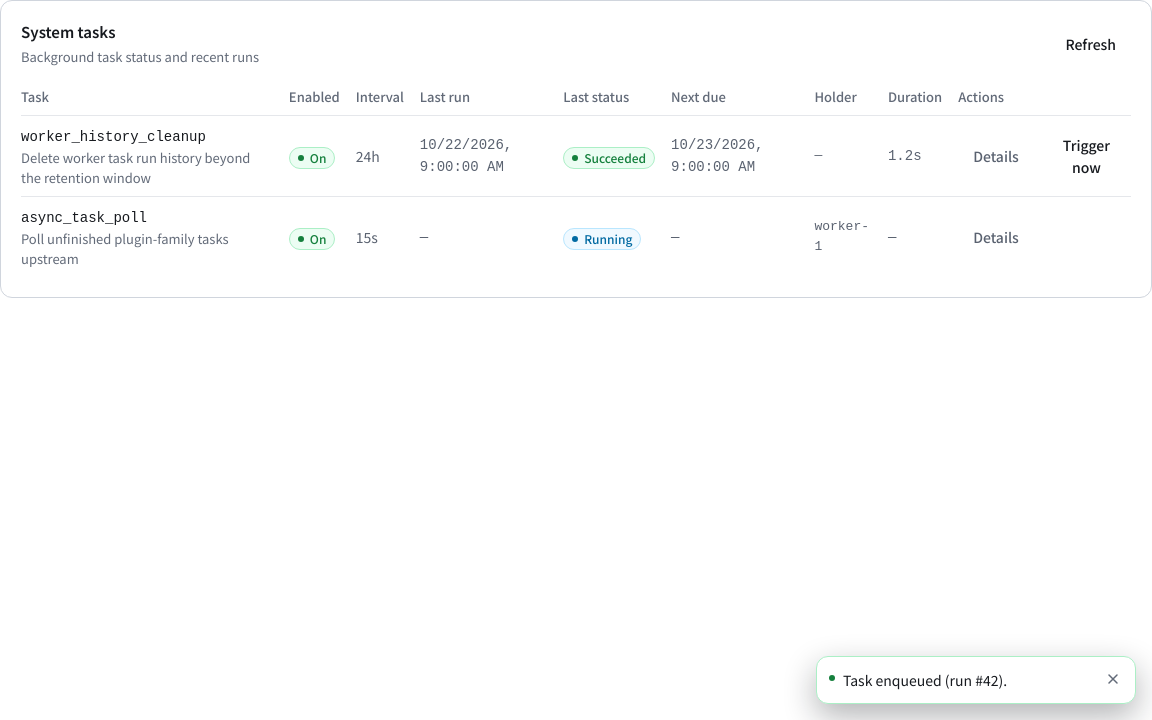
Test: SystemTasksCard › shows the 409 conflict copy when the task is already running
This screenshot has width=1152, height=720.
Check: the button "worker_history_cleanup" is shown, box left=21, top=126, right=206, bottom=148
What coordinates should you click on to do the following:
click the button "Trigger now"
I would click on:
 (1086, 156)
Its box is left=1042, top=138, right=1131, bottom=174.
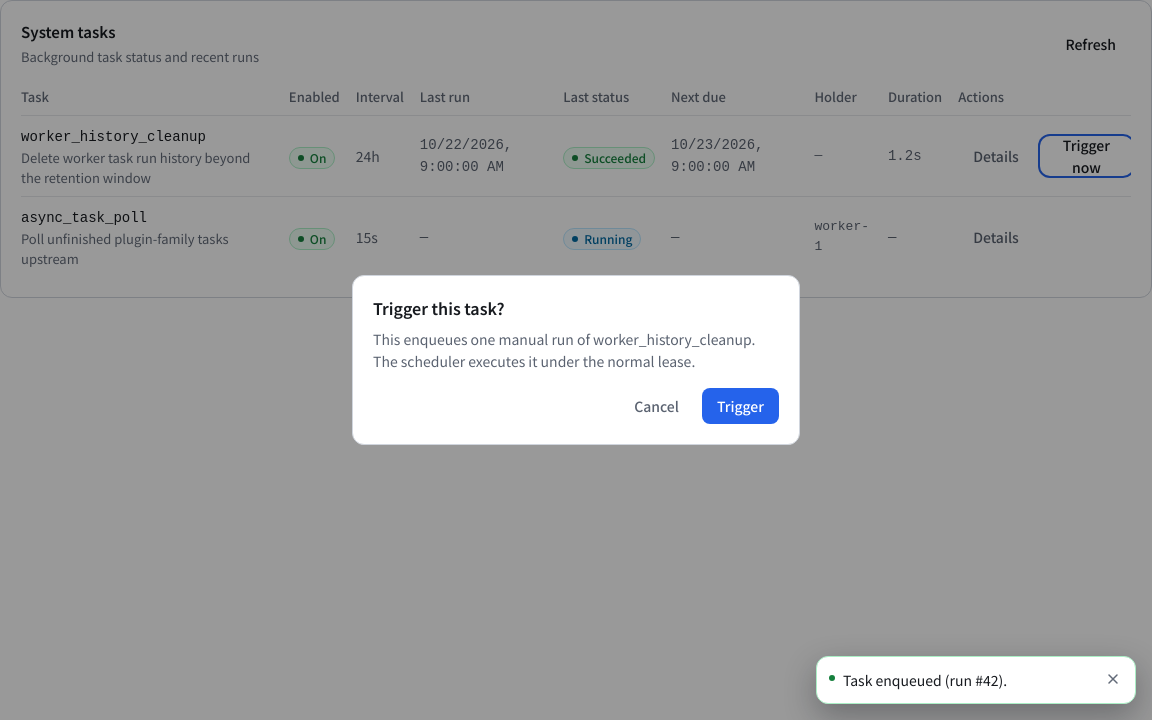
What coordinates should you click on to do the following:
click the button "Trigger"
I would click on:
 (740, 406)
Its box is left=702, top=388, right=779, bottom=424.
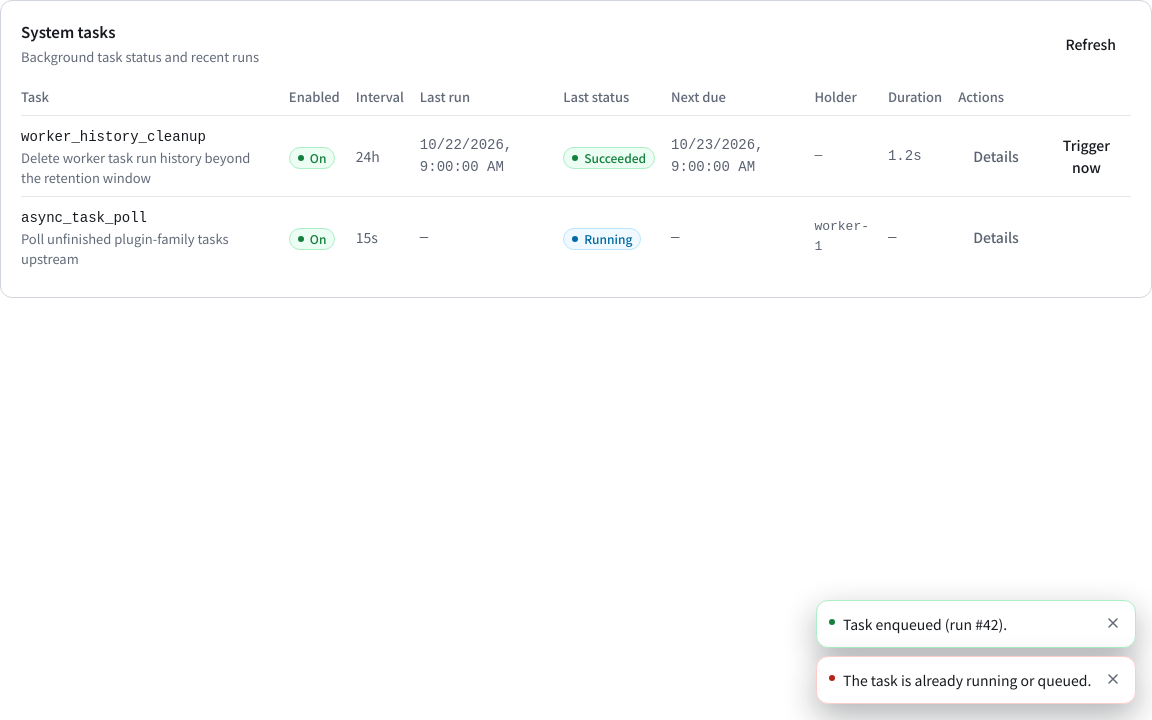
Check: the text "The task is already running or queued." is shown, box left=843, top=669, right=1095, bottom=691
